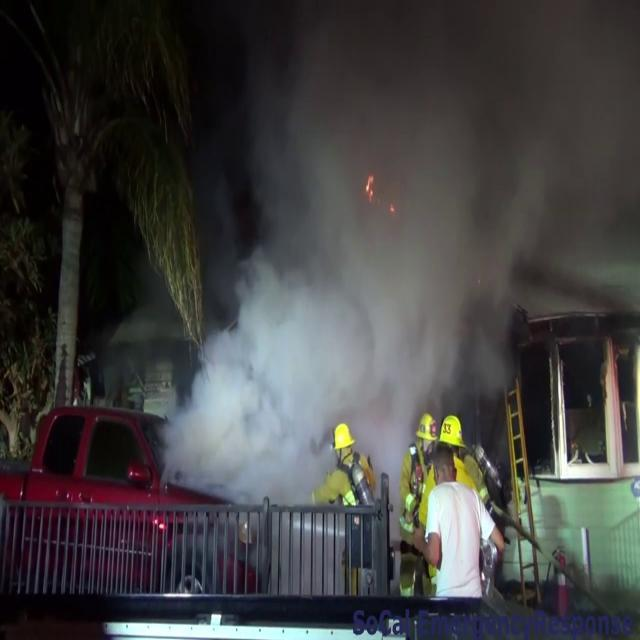Smoke: (164, 1, 640, 480)
